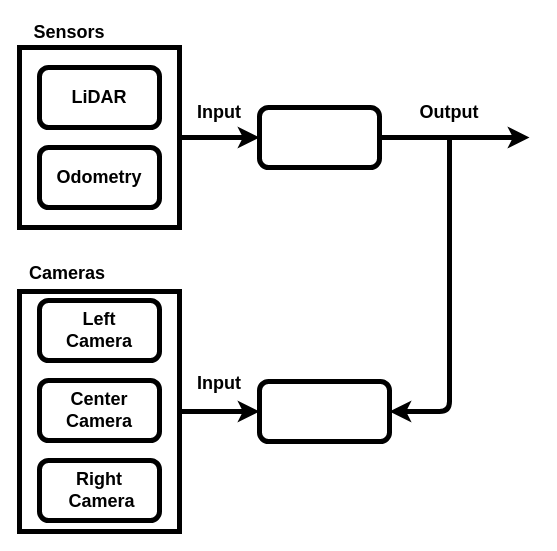
Image size: 557x551. Some labels were removed from this diagram. The centre of each missing label's shape, as x and y in pixels:
Deep learning: the point at 324,411
Navigation: the point at 319,137
